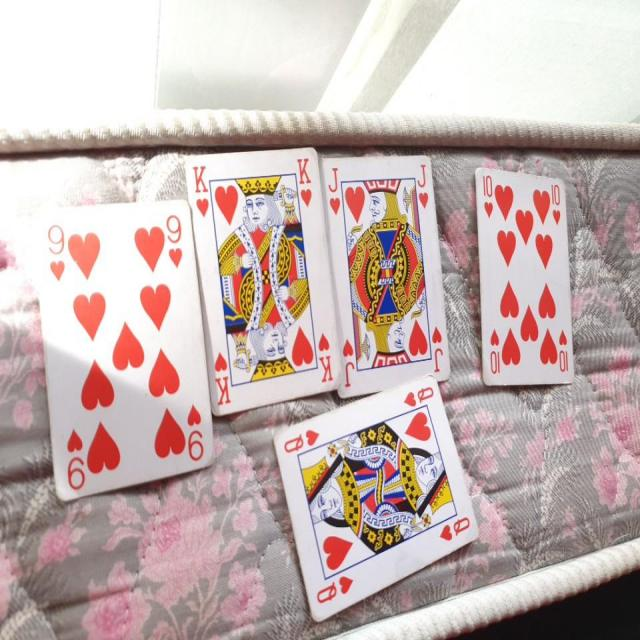10 Hearts: (469, 154, 580, 389)
9 Hearts: (24, 201, 218, 508)
J Hearts: (320, 148, 454, 394)
K Hearts: (182, 137, 342, 422)
Q Hearts: (274, 372, 481, 628)
